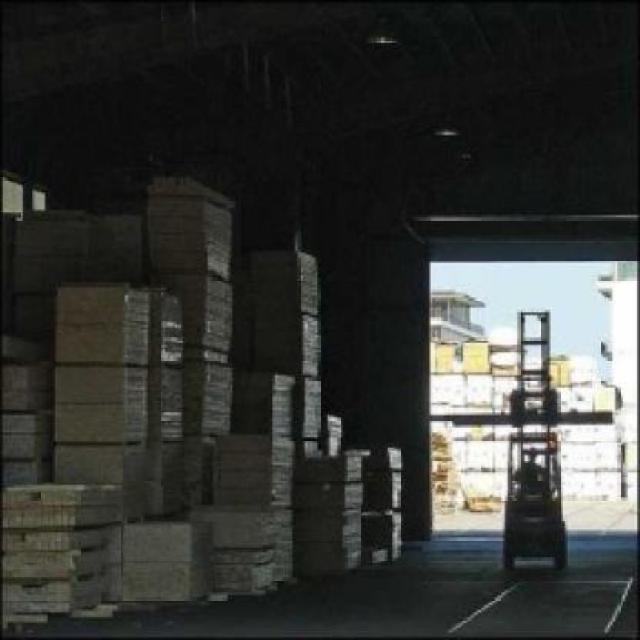forklift: (505, 313, 570, 573)
